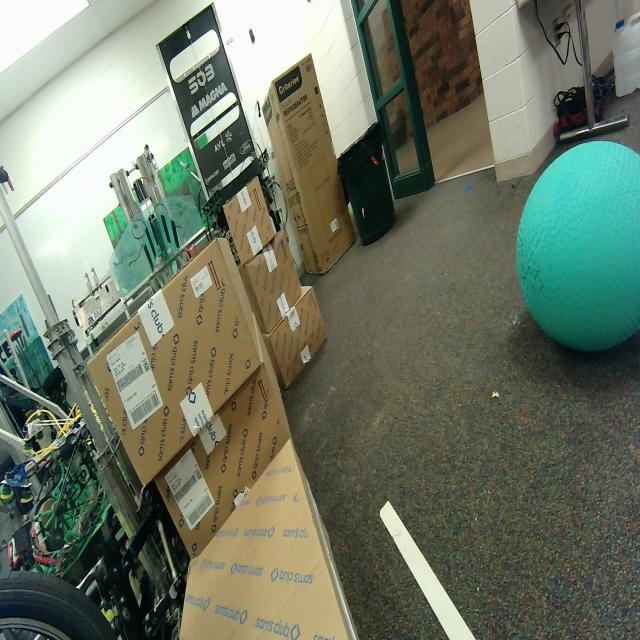algae: (516, 140, 640, 361)
